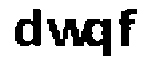d: (11, 6, 45, 48)
f: (118, 2, 142, 48)
q: (85, 17, 114, 60)
w: (44, 15, 89, 48)
